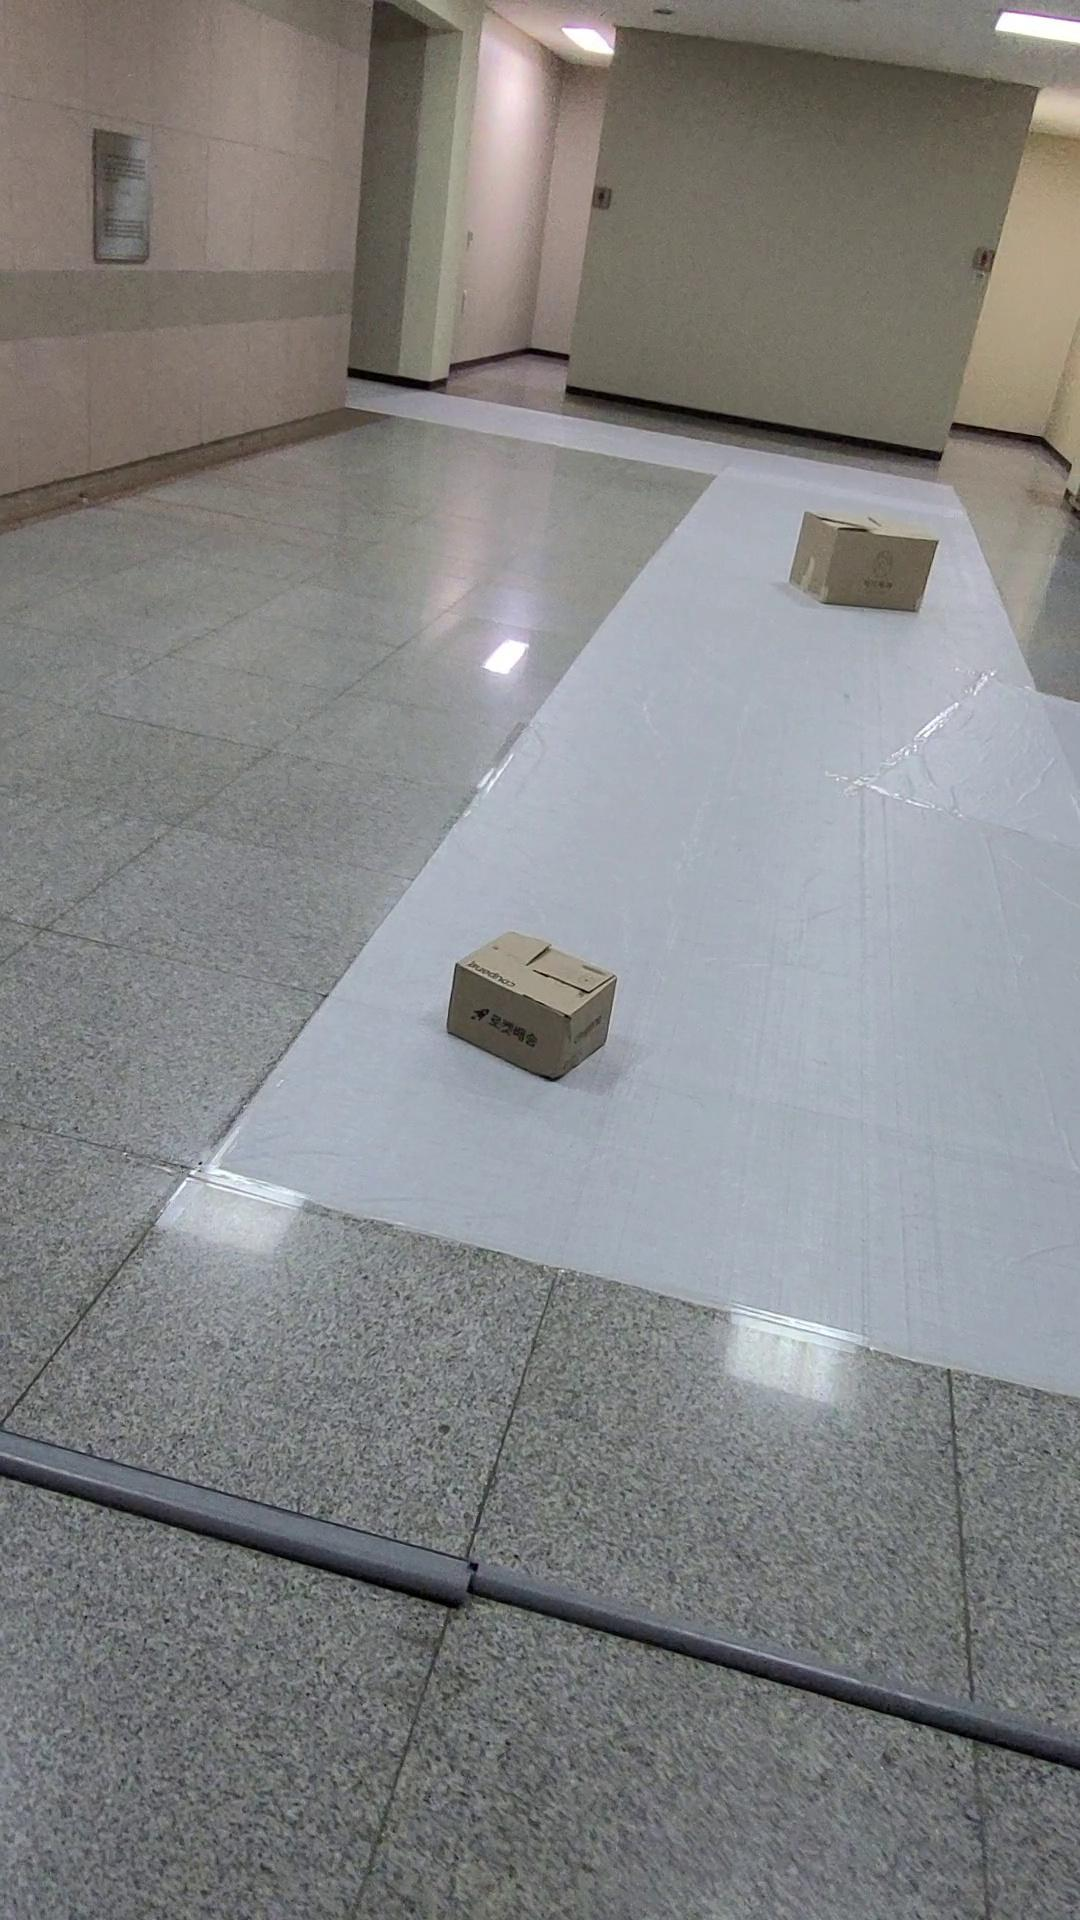Box: (440, 885, 653, 1110), (753, 473, 963, 638)
